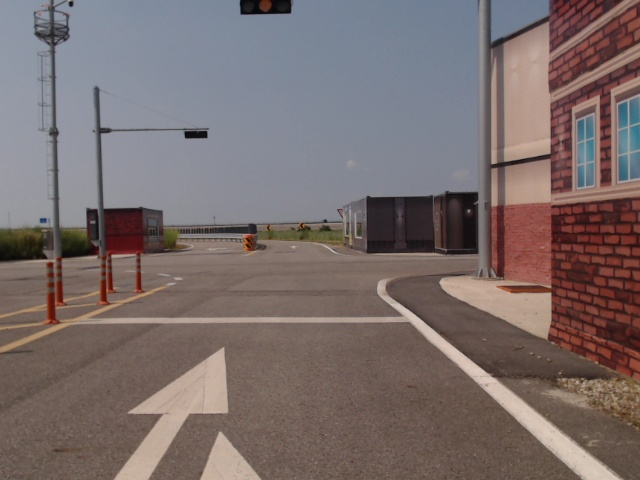orange_3: (242, 0, 291, 16)
